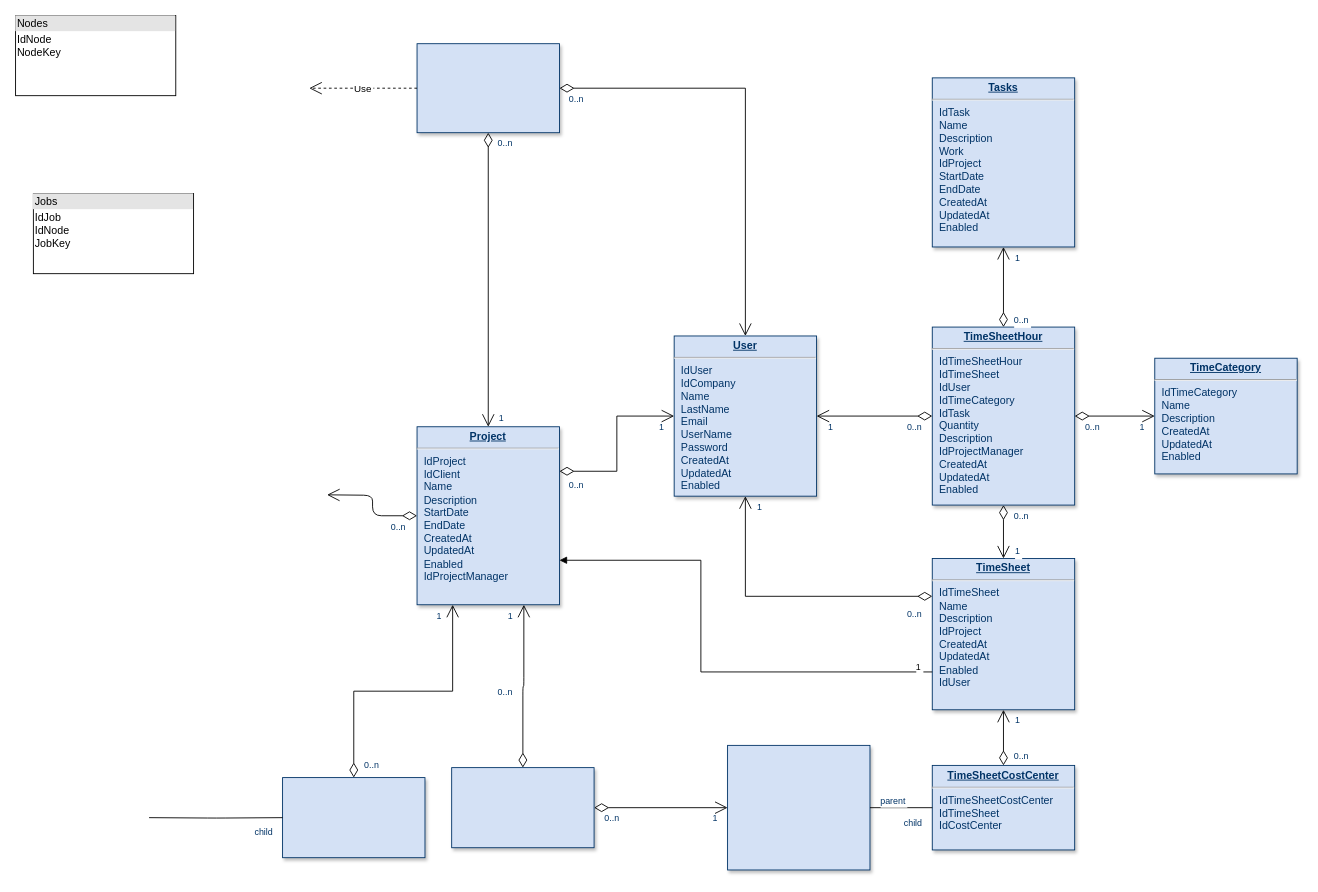
Some shapes in this 1318 by 892 pixel diagram are drawn without their labels. Each missing label, with the centre of its shape:
"CostCenter IdCostCenter Name Description CreatedAt UpdatedAt Enabled" belongs at (x=799, y=808).
"ProjectCostCenter IdProjectCostCenter IdProject IdCostCenter" belongs at (x=523, y=808).
"ProjectDocument IdProjectDocument IdProject IdDocument" belongs at (x=354, y=818).
"UserProjectRole IdUserProjectRole IdRole IdProject IdUser" belongs at (x=489, y=89).
